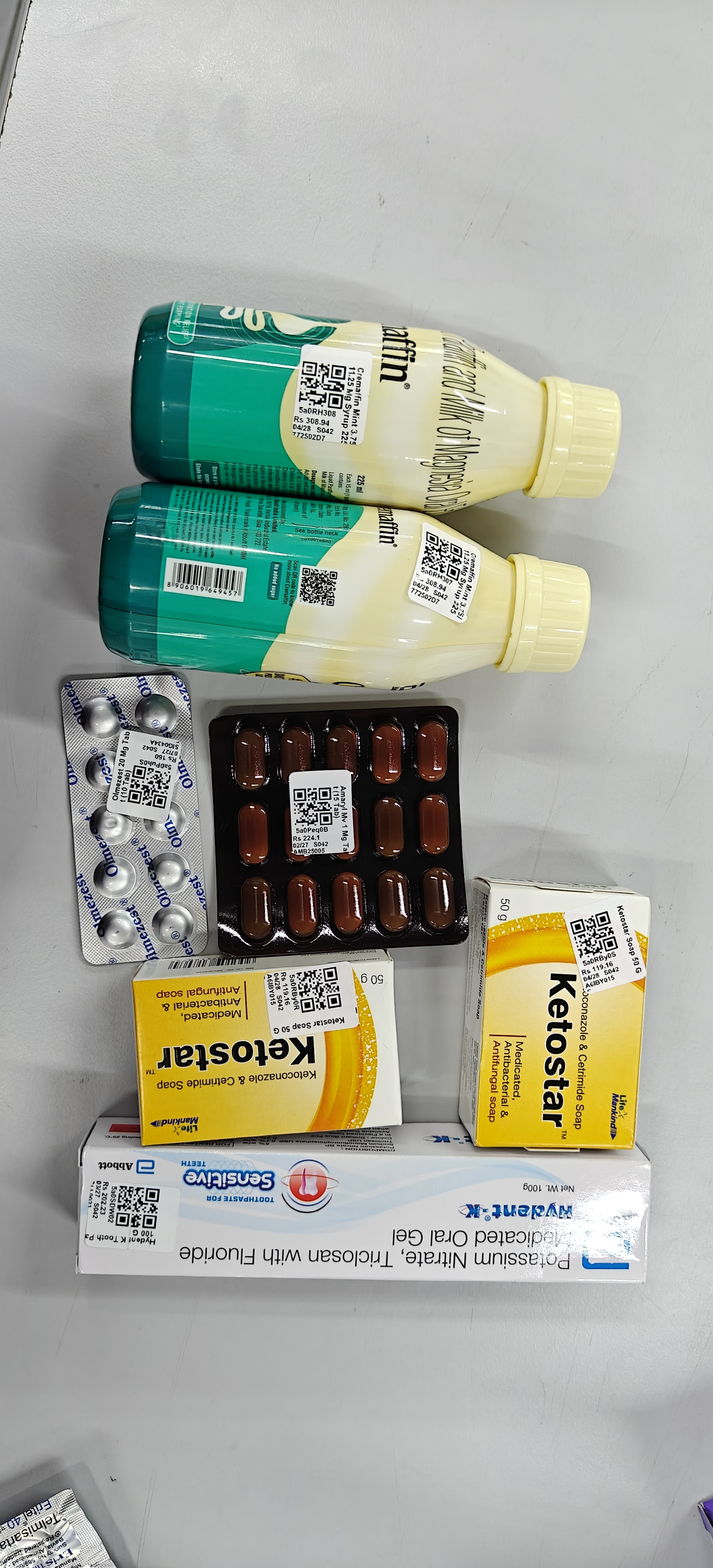qr_code: (21, 789, 341, 1013), (570, 910, 618, 959), (296, 966, 341, 1013), (421, 531, 462, 581), (127, 764, 171, 808), (115, 1185, 160, 1228), (297, 567, 337, 606), (293, 787, 332, 826)
